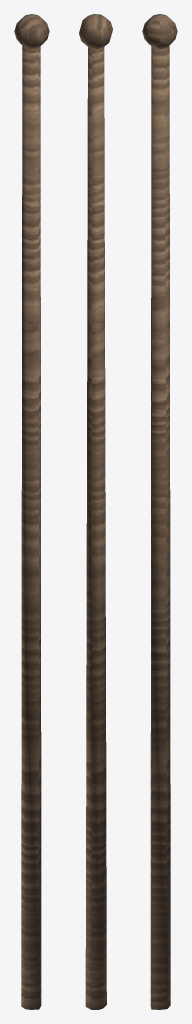
The model's file is wooden_staff.glb.
The picture shows the model from 3 angles, left to right: view 1: azimuth 90°, elevation 25°; view 2: azimuth 150°, elevation 25°; view 3: azimuth 270°, elevation 25°; orthographic projection.
Parts seen in each view (by area): view 1: wooden_staff; view 2: wooden_staff; view 3: wooden_staff.
Part boxes in pixels (x1,y1,x2,y2): wooden_staff: (14, 14, 49, 1009); wooden_staff: (79, 14, 112, 1009); wooden_staff: (142, 14, 177, 1009).
Bounding box in the file's own units: 0.05 × 1.54 × 0.05.
Materials: 1 (1 with a texture image).
